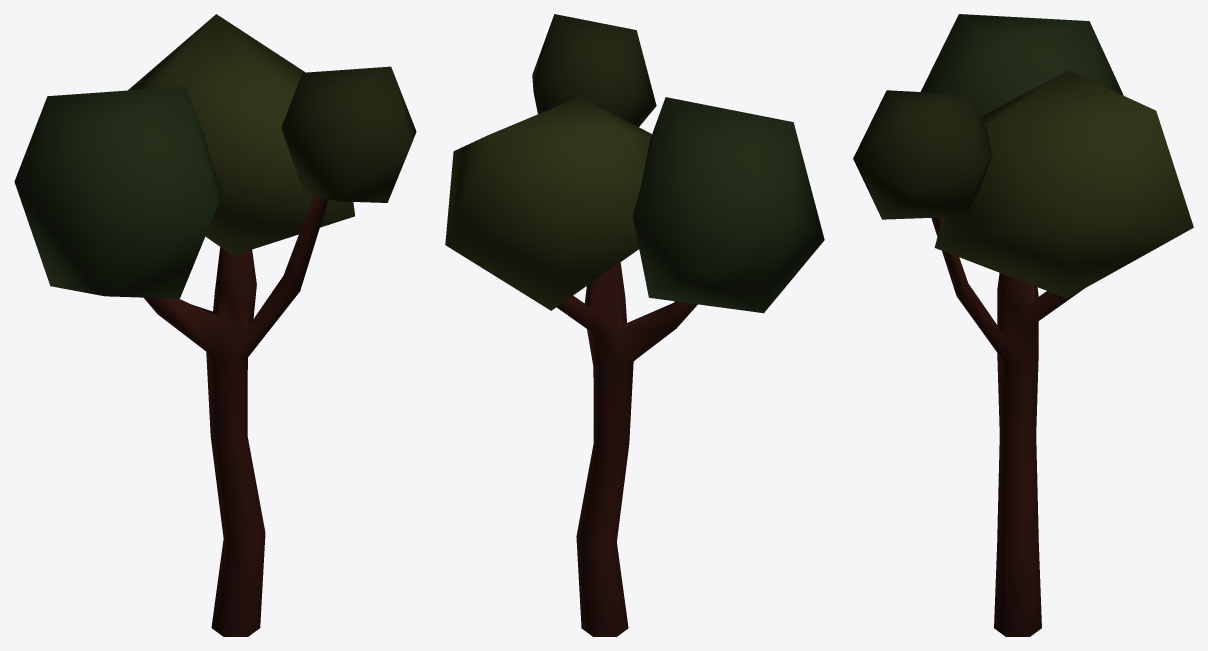
The model's file is Tree1.fbx.
3 renders of one model, left to right at view 1: azimuth 30°, elevation 25°; view 2: azimuth 150°, elevation 25°; view 3: azimuth 270°, elevation 25°, orthographic. The views are drawn at different scales.
Parts seen in each view (by area): view 1: Tree 3; view 2: Tree 3; view 3: Tree 3.
Part boxes in pixels (x1,y1,x2,y2): Tree 3: (14,14,416,636); Tree 3: (445,14,824,636); Tree 3: (853,14,1193,636).
Size of the model in its own units: 162 by 263 by 144.
